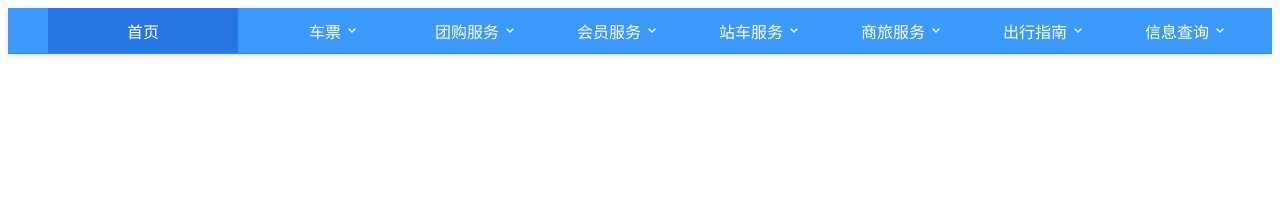
it: MainNavigation - 主导航栏组件 › 鼠标从车票移到首页应该立即关闭下拉菜单
# 打开车票下拉菜单
Hover over the text "车票": point(333, 32) [309,24,357,40]
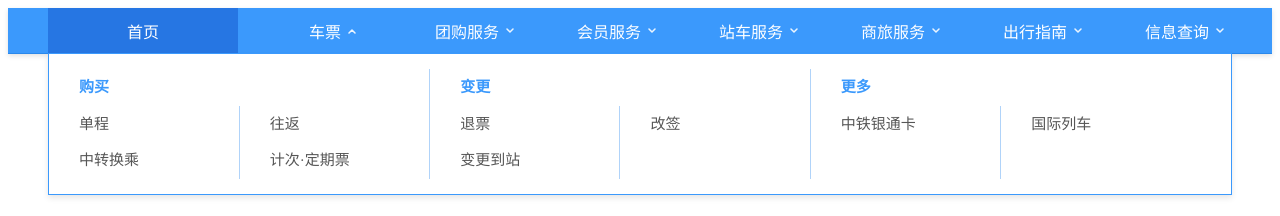
Expected: the link "单程" is shown, [79,116,109,132]
# 移出车票（会设置100ms定时器）
Move the pointer off the text "车票", box [309,24,357,40]
Expected: the link "单程" is shown, [79,116,109,132]
# 移入首页（应该立即清除定时器并关闭下拉菜单）
Hover over the link "首页": point(143, 30) [48,8,238,53]
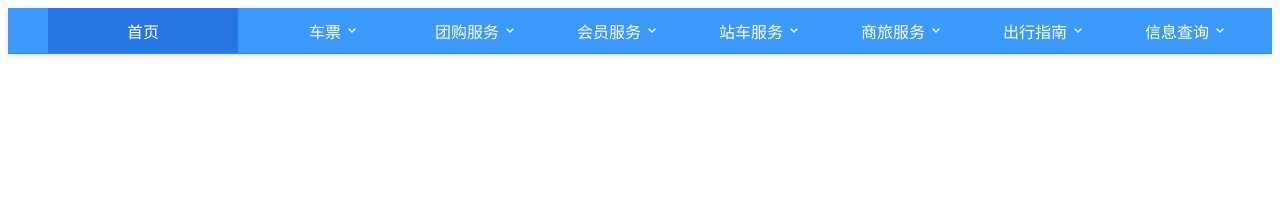
Expected: the link "单程" is gone
